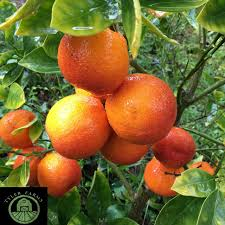orange: (108, 71, 180, 141), (57, 29, 132, 90), (46, 95, 112, 160), (36, 152, 83, 195), (143, 157, 187, 198), (154, 128, 197, 166), (1, 108, 42, 146)
